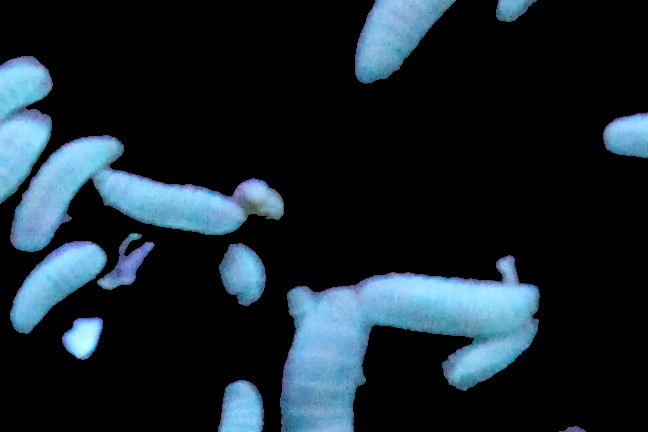larvae: (7, 135, 120, 249), (283, 284, 370, 432), (346, 1, 486, 80), (358, 280, 534, 336), (106, 172, 238, 240), (10, 236, 98, 334), (442, 340, 538, 400), (1, 114, 54, 203), (1, 50, 58, 113), (496, 1, 610, 26)
